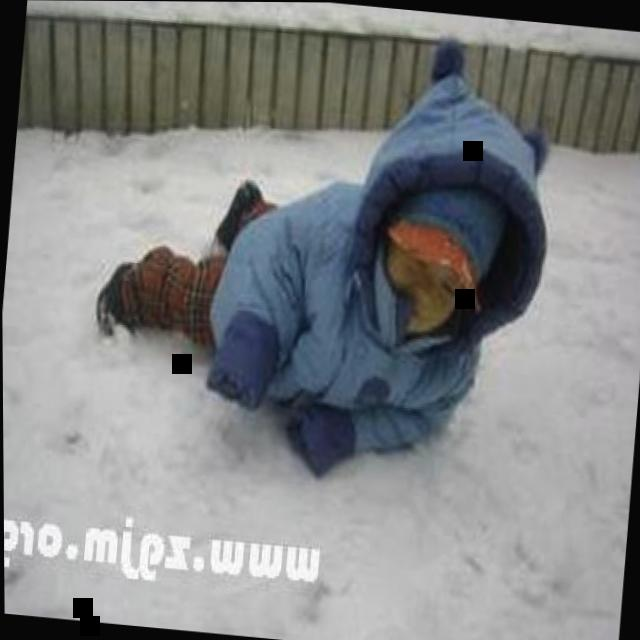Fall-Detected: (74, 6, 575, 492)
